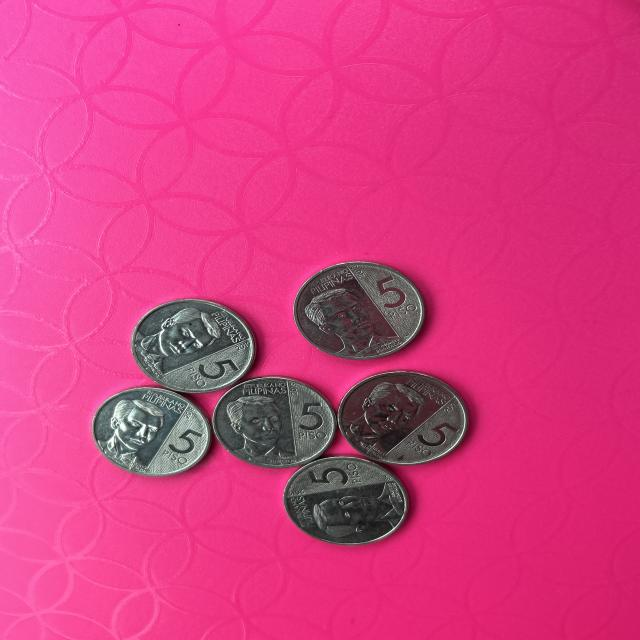5_New_Front: (364, 267, 417, 334), (183, 353, 247, 400), (408, 413, 462, 468), (290, 389, 331, 447), (304, 458, 364, 494), (155, 436, 204, 474)
